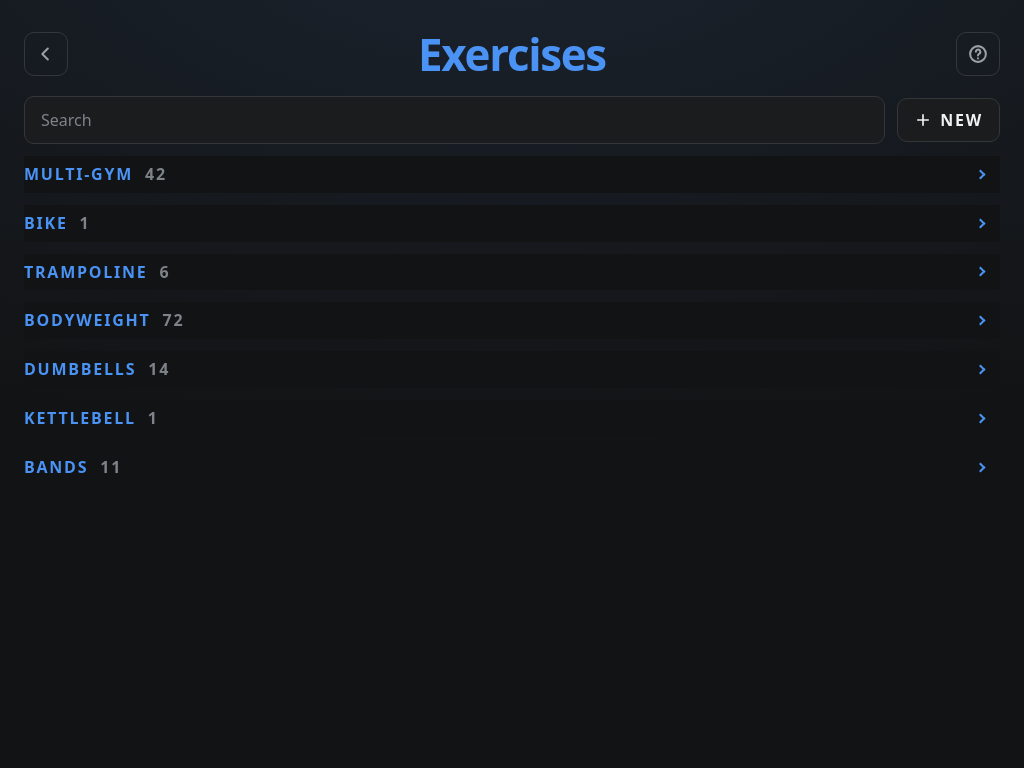
Test: help › opens a tray of its own, not the library’s
Click the button named "Help": (978, 54) x1=956 y1=32 x2=1000 y2=76
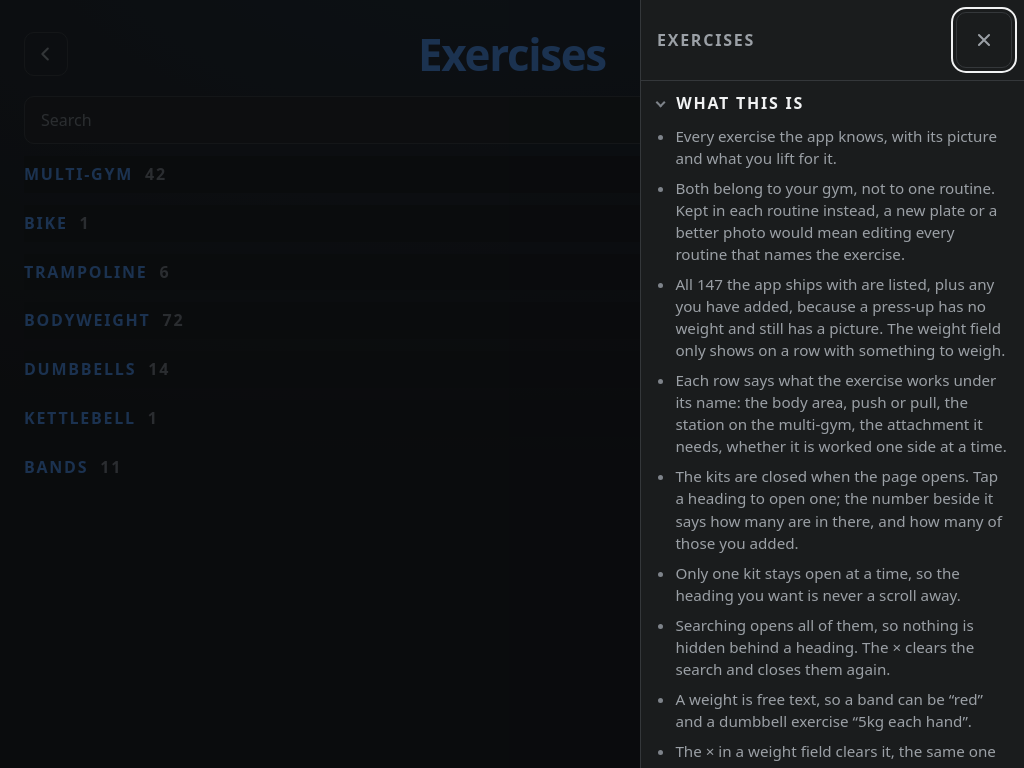
Check: the dialog "Exercises" is shown, box x1=640 y1=0 x2=1023 y2=767
